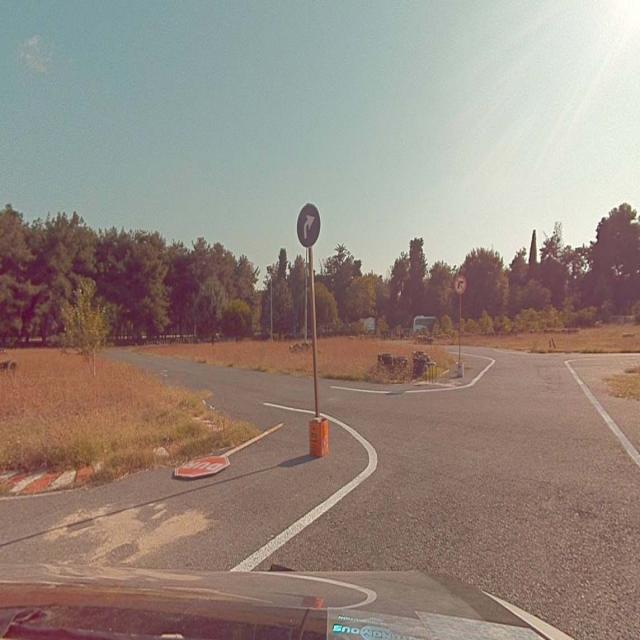sag: (296, 201, 321, 247)
sagadonulmez: (453, 275, 466, 293)
